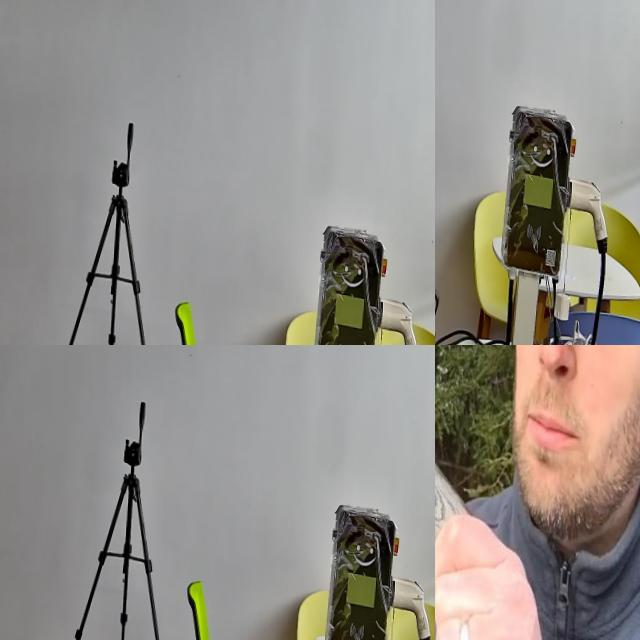-: (435, 345, 553, 512)
gun-knife-thesis - v11 Yolov5 augmented: (435, 37, 461, 105), (0, 345, 21, 392), (0, 0, 21, 41)
